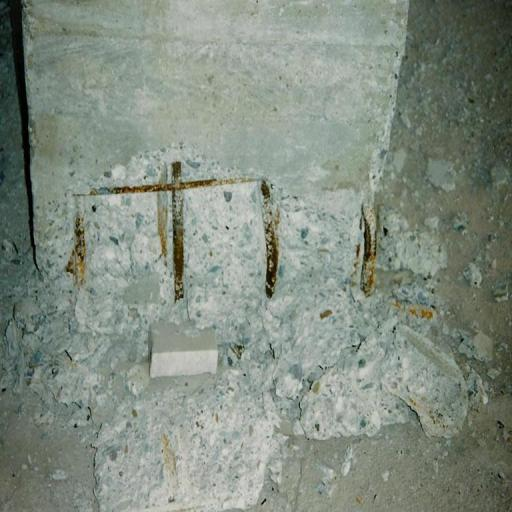spalling: (48, 145, 377, 306)
